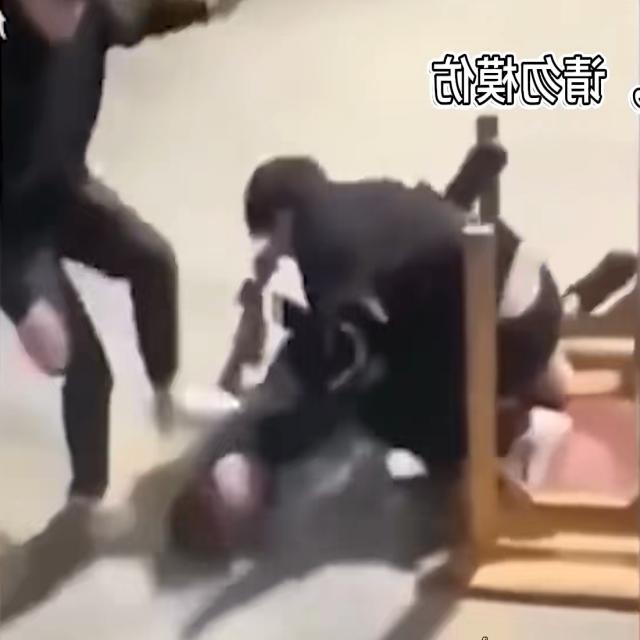fight: (167, 141, 575, 559)
nofight: (0, 0, 205, 537)
